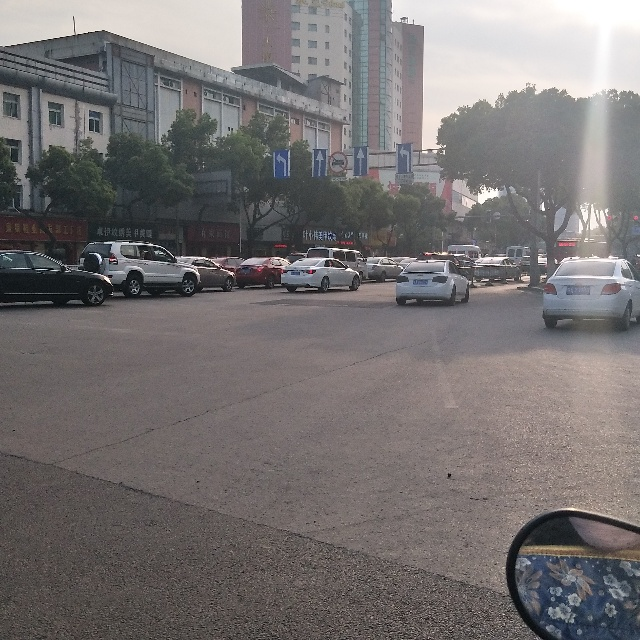left: (273, 150, 290, 179), (396, 143, 411, 173)
straight: (311, 148, 328, 176), (352, 146, 368, 175)
